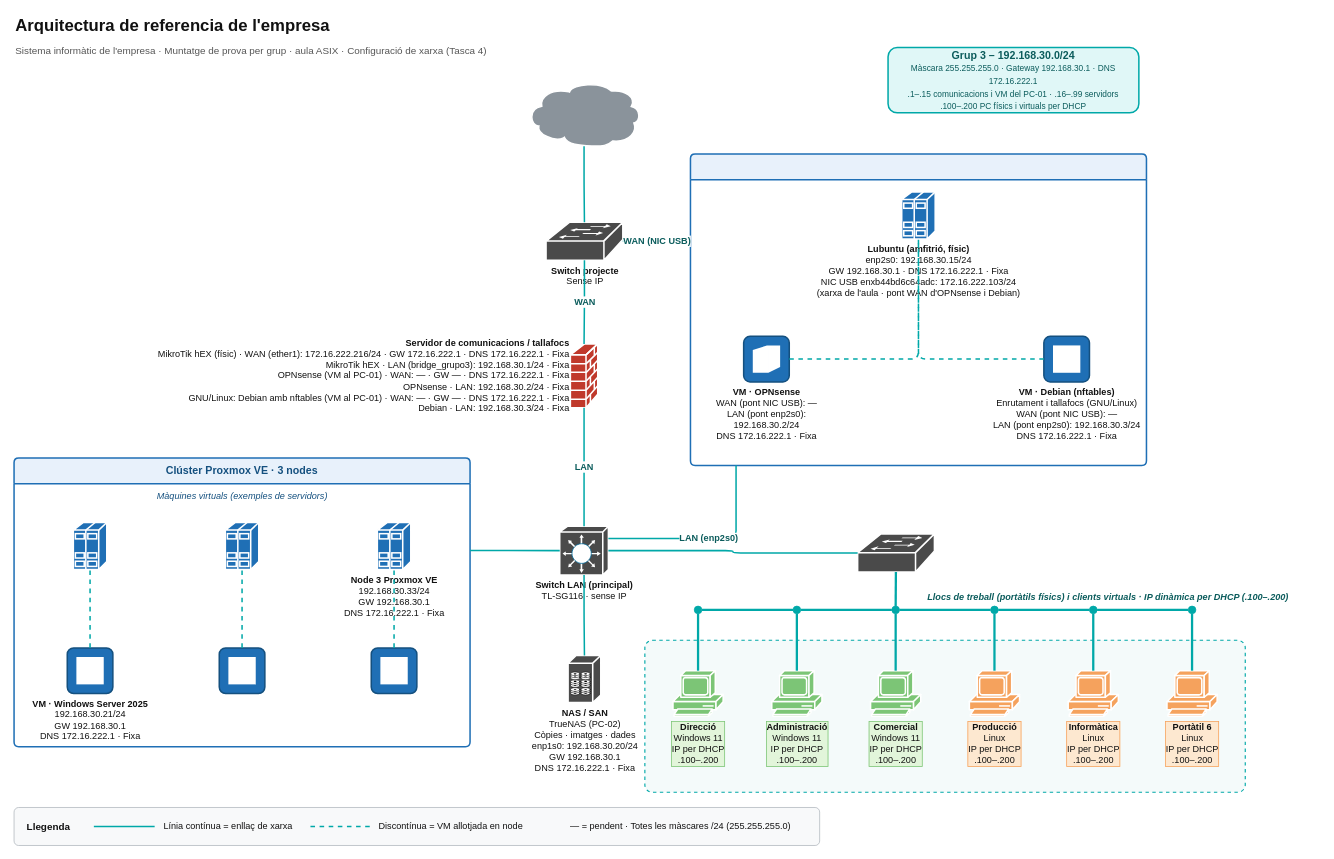
This 1334x859 diagram has some shape labels left out. Here are the shapes that lost their labels. From the top down, the box of each, then its label:
(526, 81, 641, 147): Xarxa de l'aula – 172.16.222.0/24
(689, 153, 1147, 466): PC-01 · Lubuntu (amfitrió) · VirtualBox
(72, 521, 107, 570): Node 1 Proxmox VE 192.168.30.31/24 GW 192.168.30.1 DNS 172.16.222.1 · Fixa
(224, 521, 259, 570): Node 2 Proxmox VE 192.168.30.32/24 GW 192.168.30.1 DNS 172.16.222.1 · Fixa
(857, 533, 935, 572): Switch LAN (llocs de treball) LS1008G · sense IP
(218, 647, 265, 694): VM · Debian · serveis 192.168.30.22/24 GW 192.168.30.1 DNS 172.16.222.1 · Fixa
(370, 647, 417, 694): VM · Debian · dades 192.168.30.23/24 GW 192.168.30.1 DNS 172.16.222.1 · Fixa
